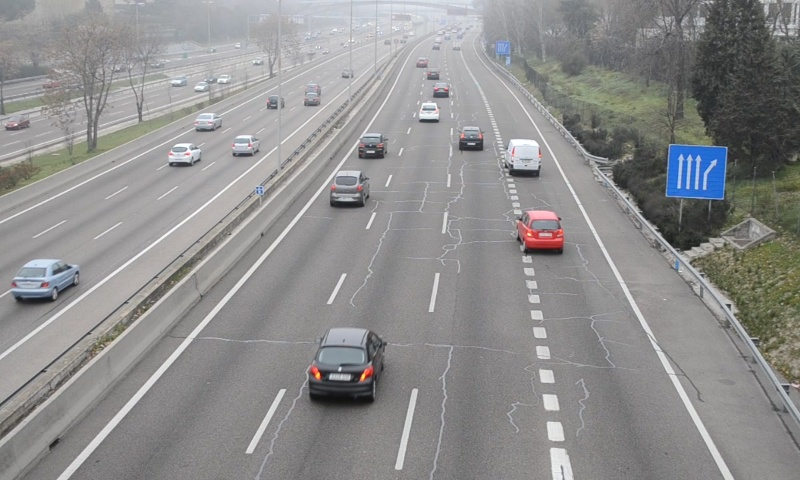car: (307, 328, 386, 400), (518, 210, 565, 251), (330, 170, 370, 205), (357, 134, 388, 160), (458, 126, 485, 151), (418, 100, 441, 122), (432, 80, 450, 97)
van: (506, 139, 542, 175)
